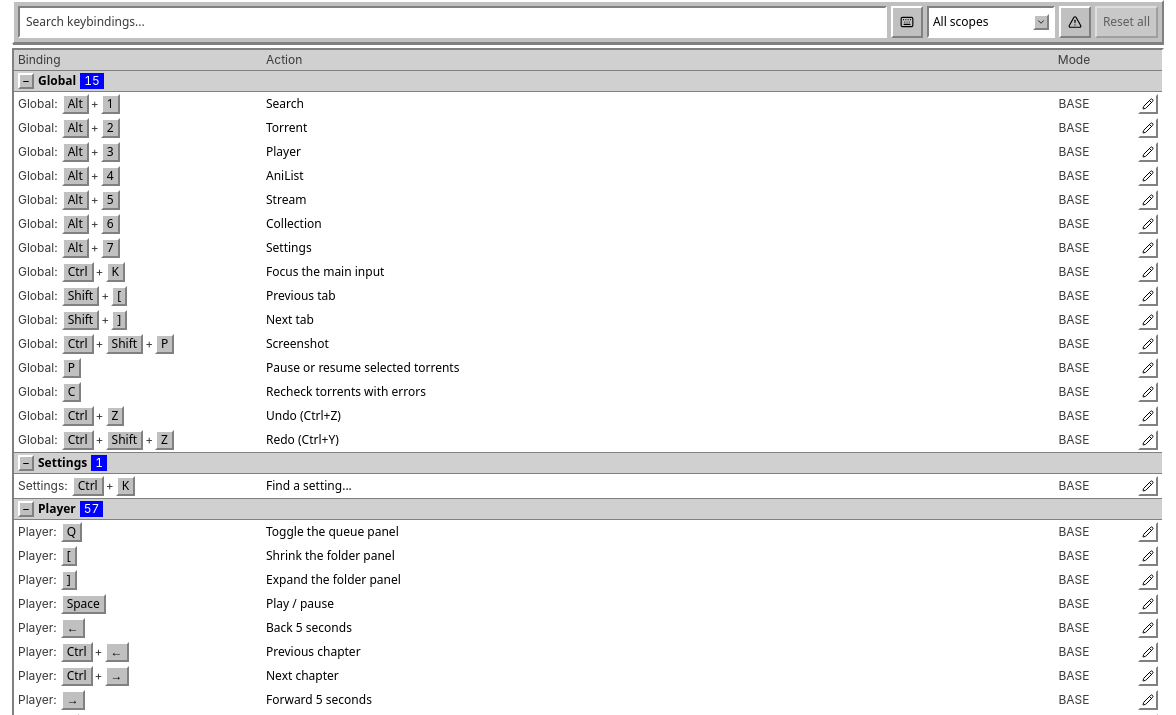
Scenario: SettingsKeybinds › shows the empty state without matches
Type "zzz-no-such-chord" into the field labelled "Search keybindings...". click: (452, 22)
box: 18,6 -> 887,38
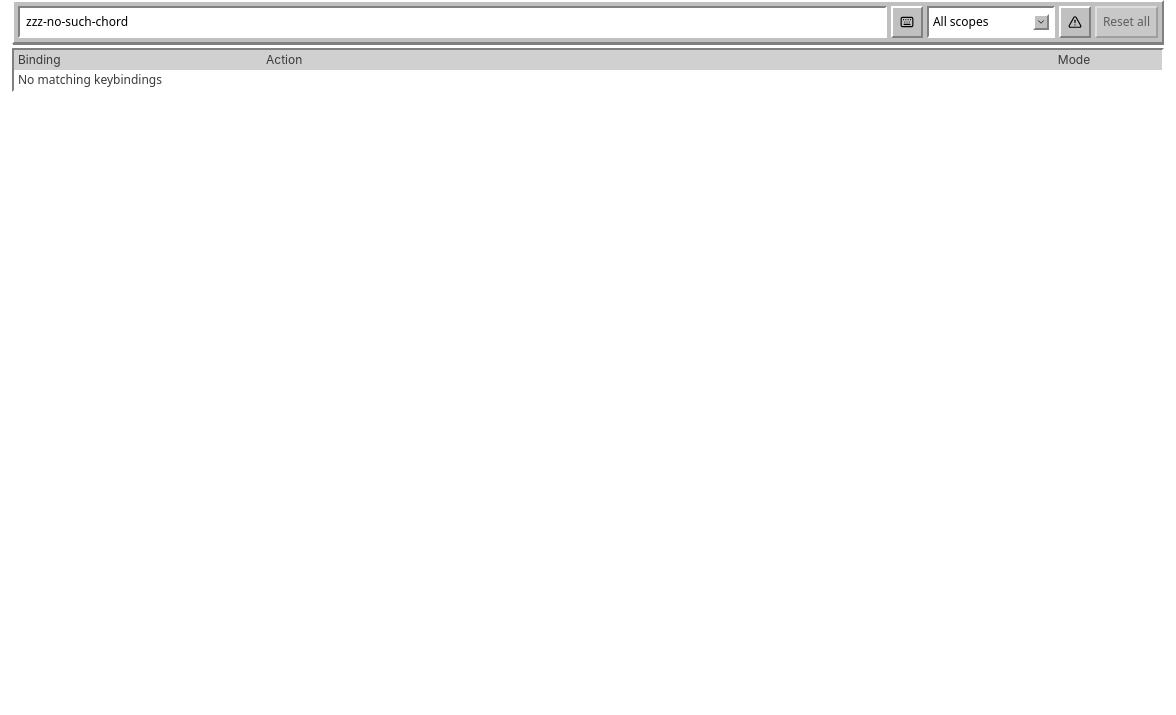
Expected: the text "No matching keybindings" is shown, 18,71 -> 162,88
